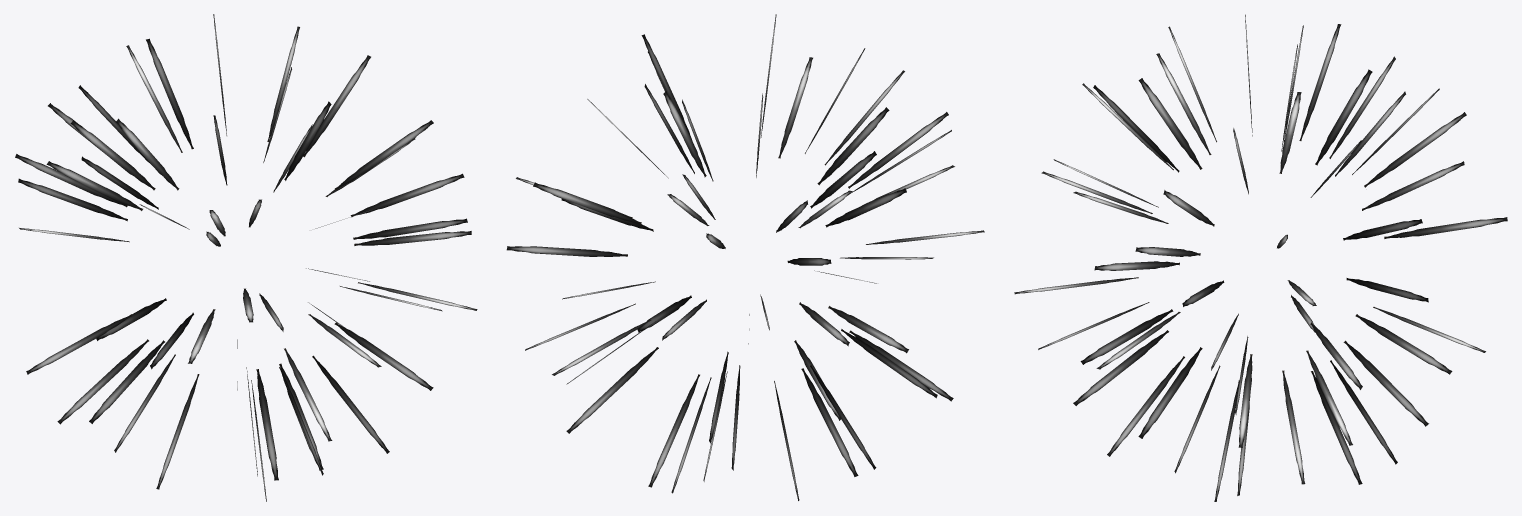
3 renders of one model, left to right at view 1: azimuth 30°, elevation 25°; view 2: azimuth 150°, elevation 25°; view 3: azimuth 270°, elevation 25°, orthographic.
Parts seen in each view (by area): view 1: T1L4M008_10; view 2: T1L4M008_10; view 3: T1L4M008_10.
Boxes of the visible parts, bbox=[...] form: T1L4M008_10: bbox=[15, 14, 477, 501]; T1L4M008_10: bbox=[506, 14, 984, 500]; T1L4M008_10: bbox=[1014, 14, 1507, 501].
Bounding box in the file's own units: 3.85 × 3.83 × 3.94.
